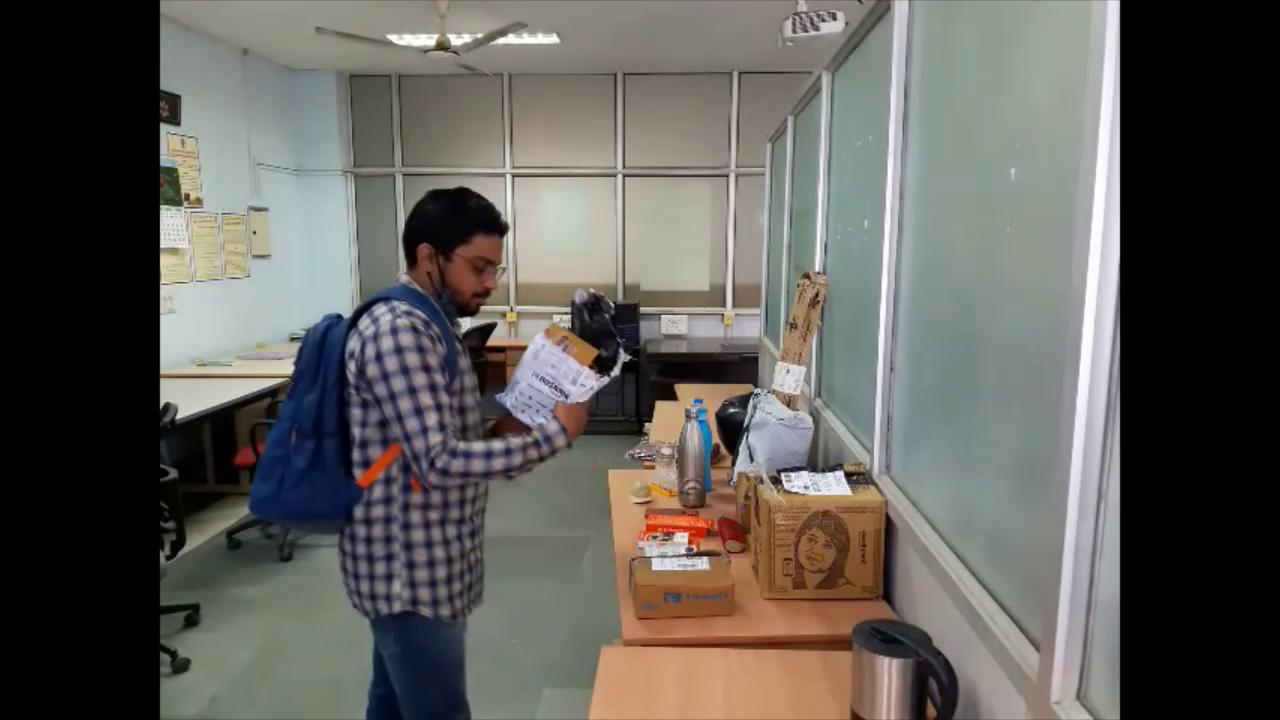Normal: (245, 172, 628, 719)
